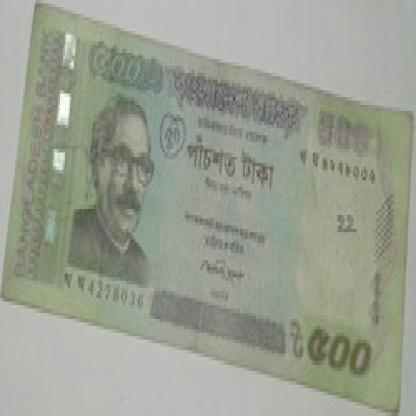500 taka: (92, 38, 152, 94)
currency: (1, 0, 415, 415)
